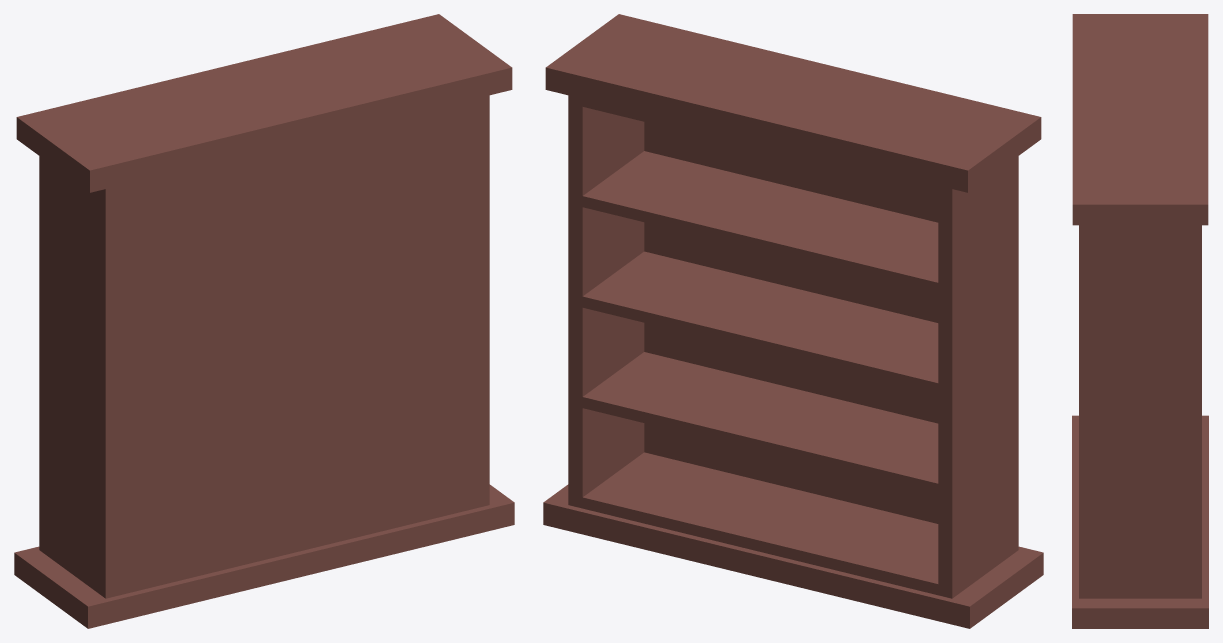
The model's file is bookshelf.gltf.
The picture shows the model from 3 angles, left to right: view 1: azimuth 30°, elevation 25°; view 2: azimuth 150°, elevation 25°; view 3: azimuth 270°, elevation 25°; orthographic projection. The views are drawn at different scales.
Parts seen in each view (by area): view 1: Cube; view 2: Cube, shelf1, shelf3, shelf2, shelf4; view 3: Cube.
Part boxes in pixels (x1=…): Cube: x1=14, y1=14, x2=514, y2=628; Cube: x1=543, y1=14, x2=1043, y2=628; shelf1: x1=583, y1=151, x2=938, y2=282; shelf3: x1=583, y1=352, x2=938, y2=483; shelf2: x1=583, y1=251, x2=938, y2=382; shelf4: x1=583, y1=452, x2=938, y2=583; Cube: x1=1072, y1=14, x2=1208, y2=628.
Size of the model in its own units: 10 by 10.25 by 3.
